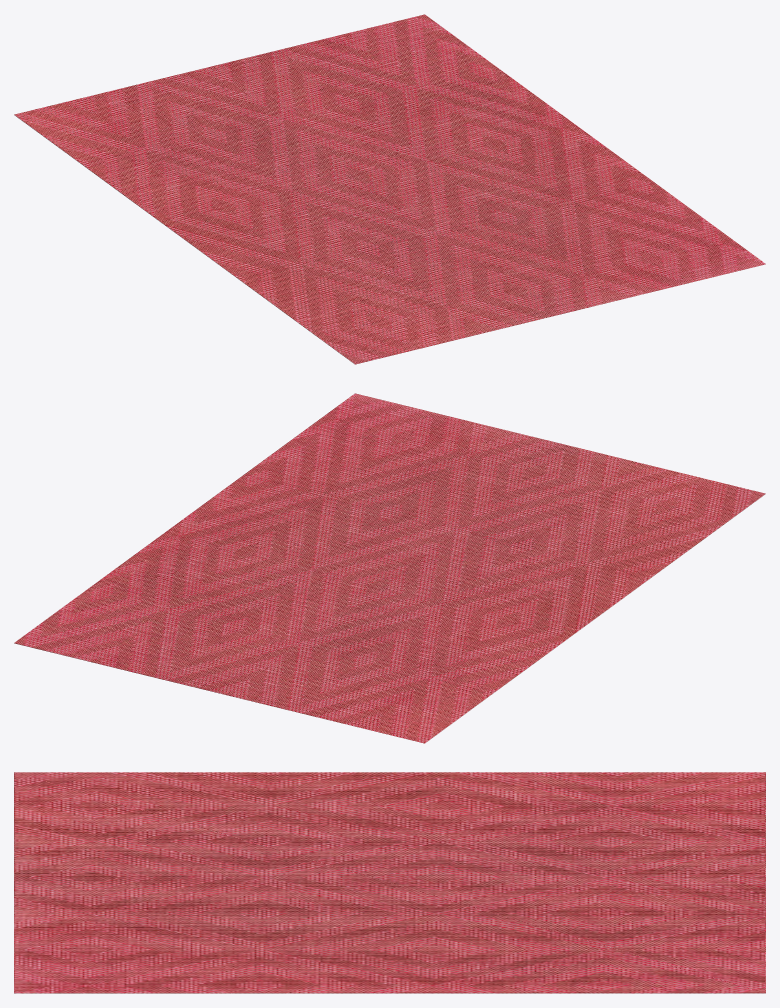
The model's file is carpet.obj.
The picture shows the model from 3 angles, top to bottom: view 1: azimuth 30°, elevation 25°; view 2: azimuth 150°, elevation 25°; view 3: azimuth 270°, elevation 25°; orthographic projection. The views are drawn at different scales.
Visible parts, largest first — view 1: Box005_Material #120_0; view 2: Box005_Material #120_0; view 3: Box005_Material #120_0, Box005_Material #121_0.
Boxes of the visible parts, x1=… form: Box005_Material #120_0: x1=14, y1=14, x2=765, y2=364; Box005_Material #120_0: x1=14, y1=393, x2=765, y2=743; Box005_Material #120_0: x1=14, y1=772, x2=765, y2=993; Box005_Material #121_0: x1=14, y1=993, x2=765, y2=993.
Size of the model in its own units: 160 by 0.13 by 230.
